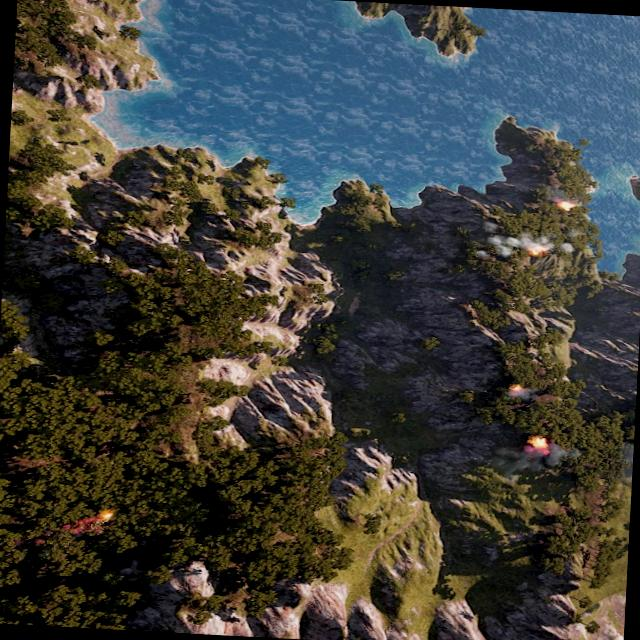fire: (526, 436, 546, 451), (526, 245, 548, 258), (556, 200, 574, 210), (509, 383, 524, 394)
smoke: (472, 220, 574, 260), (486, 441, 578, 481), (65, 508, 116, 536)
